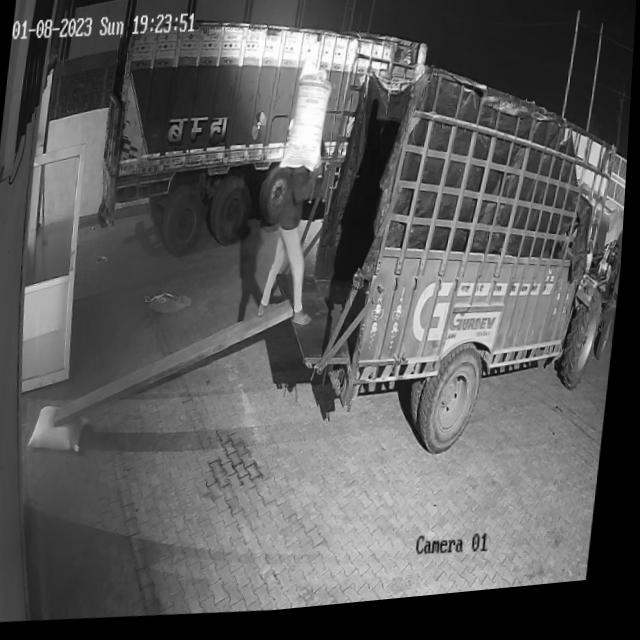sack: (281, 72, 335, 181), (32, 403, 96, 458)
